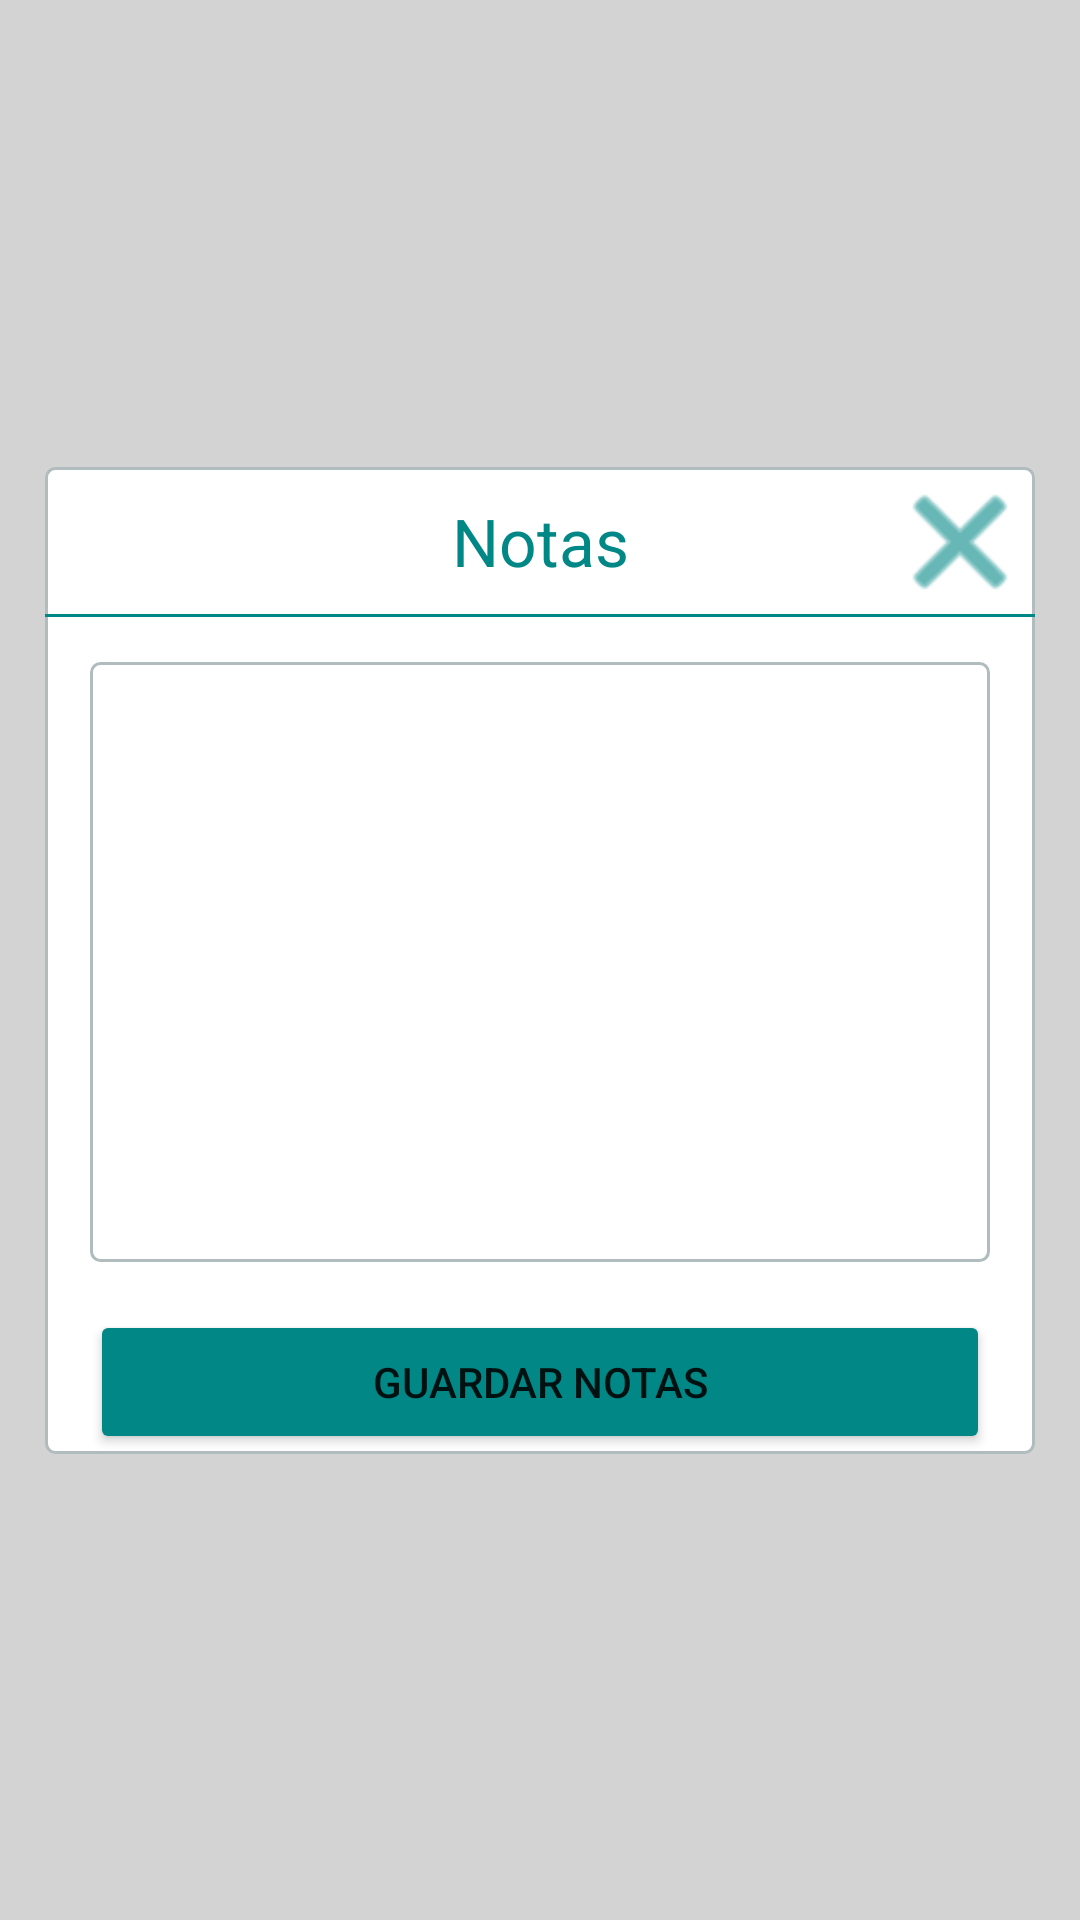

Named icons in this screenshot (1080×1920) and their centers, point (x, y):
close clear cancel: point (960, 542)
